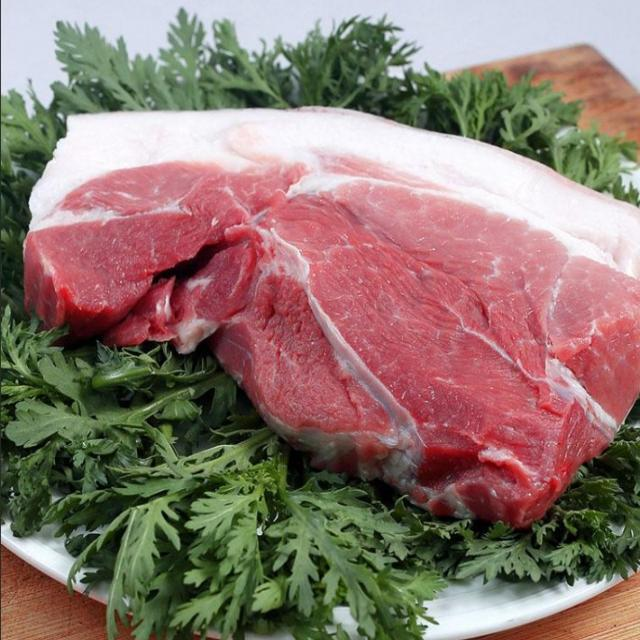pork: (20, 86, 631, 528)
